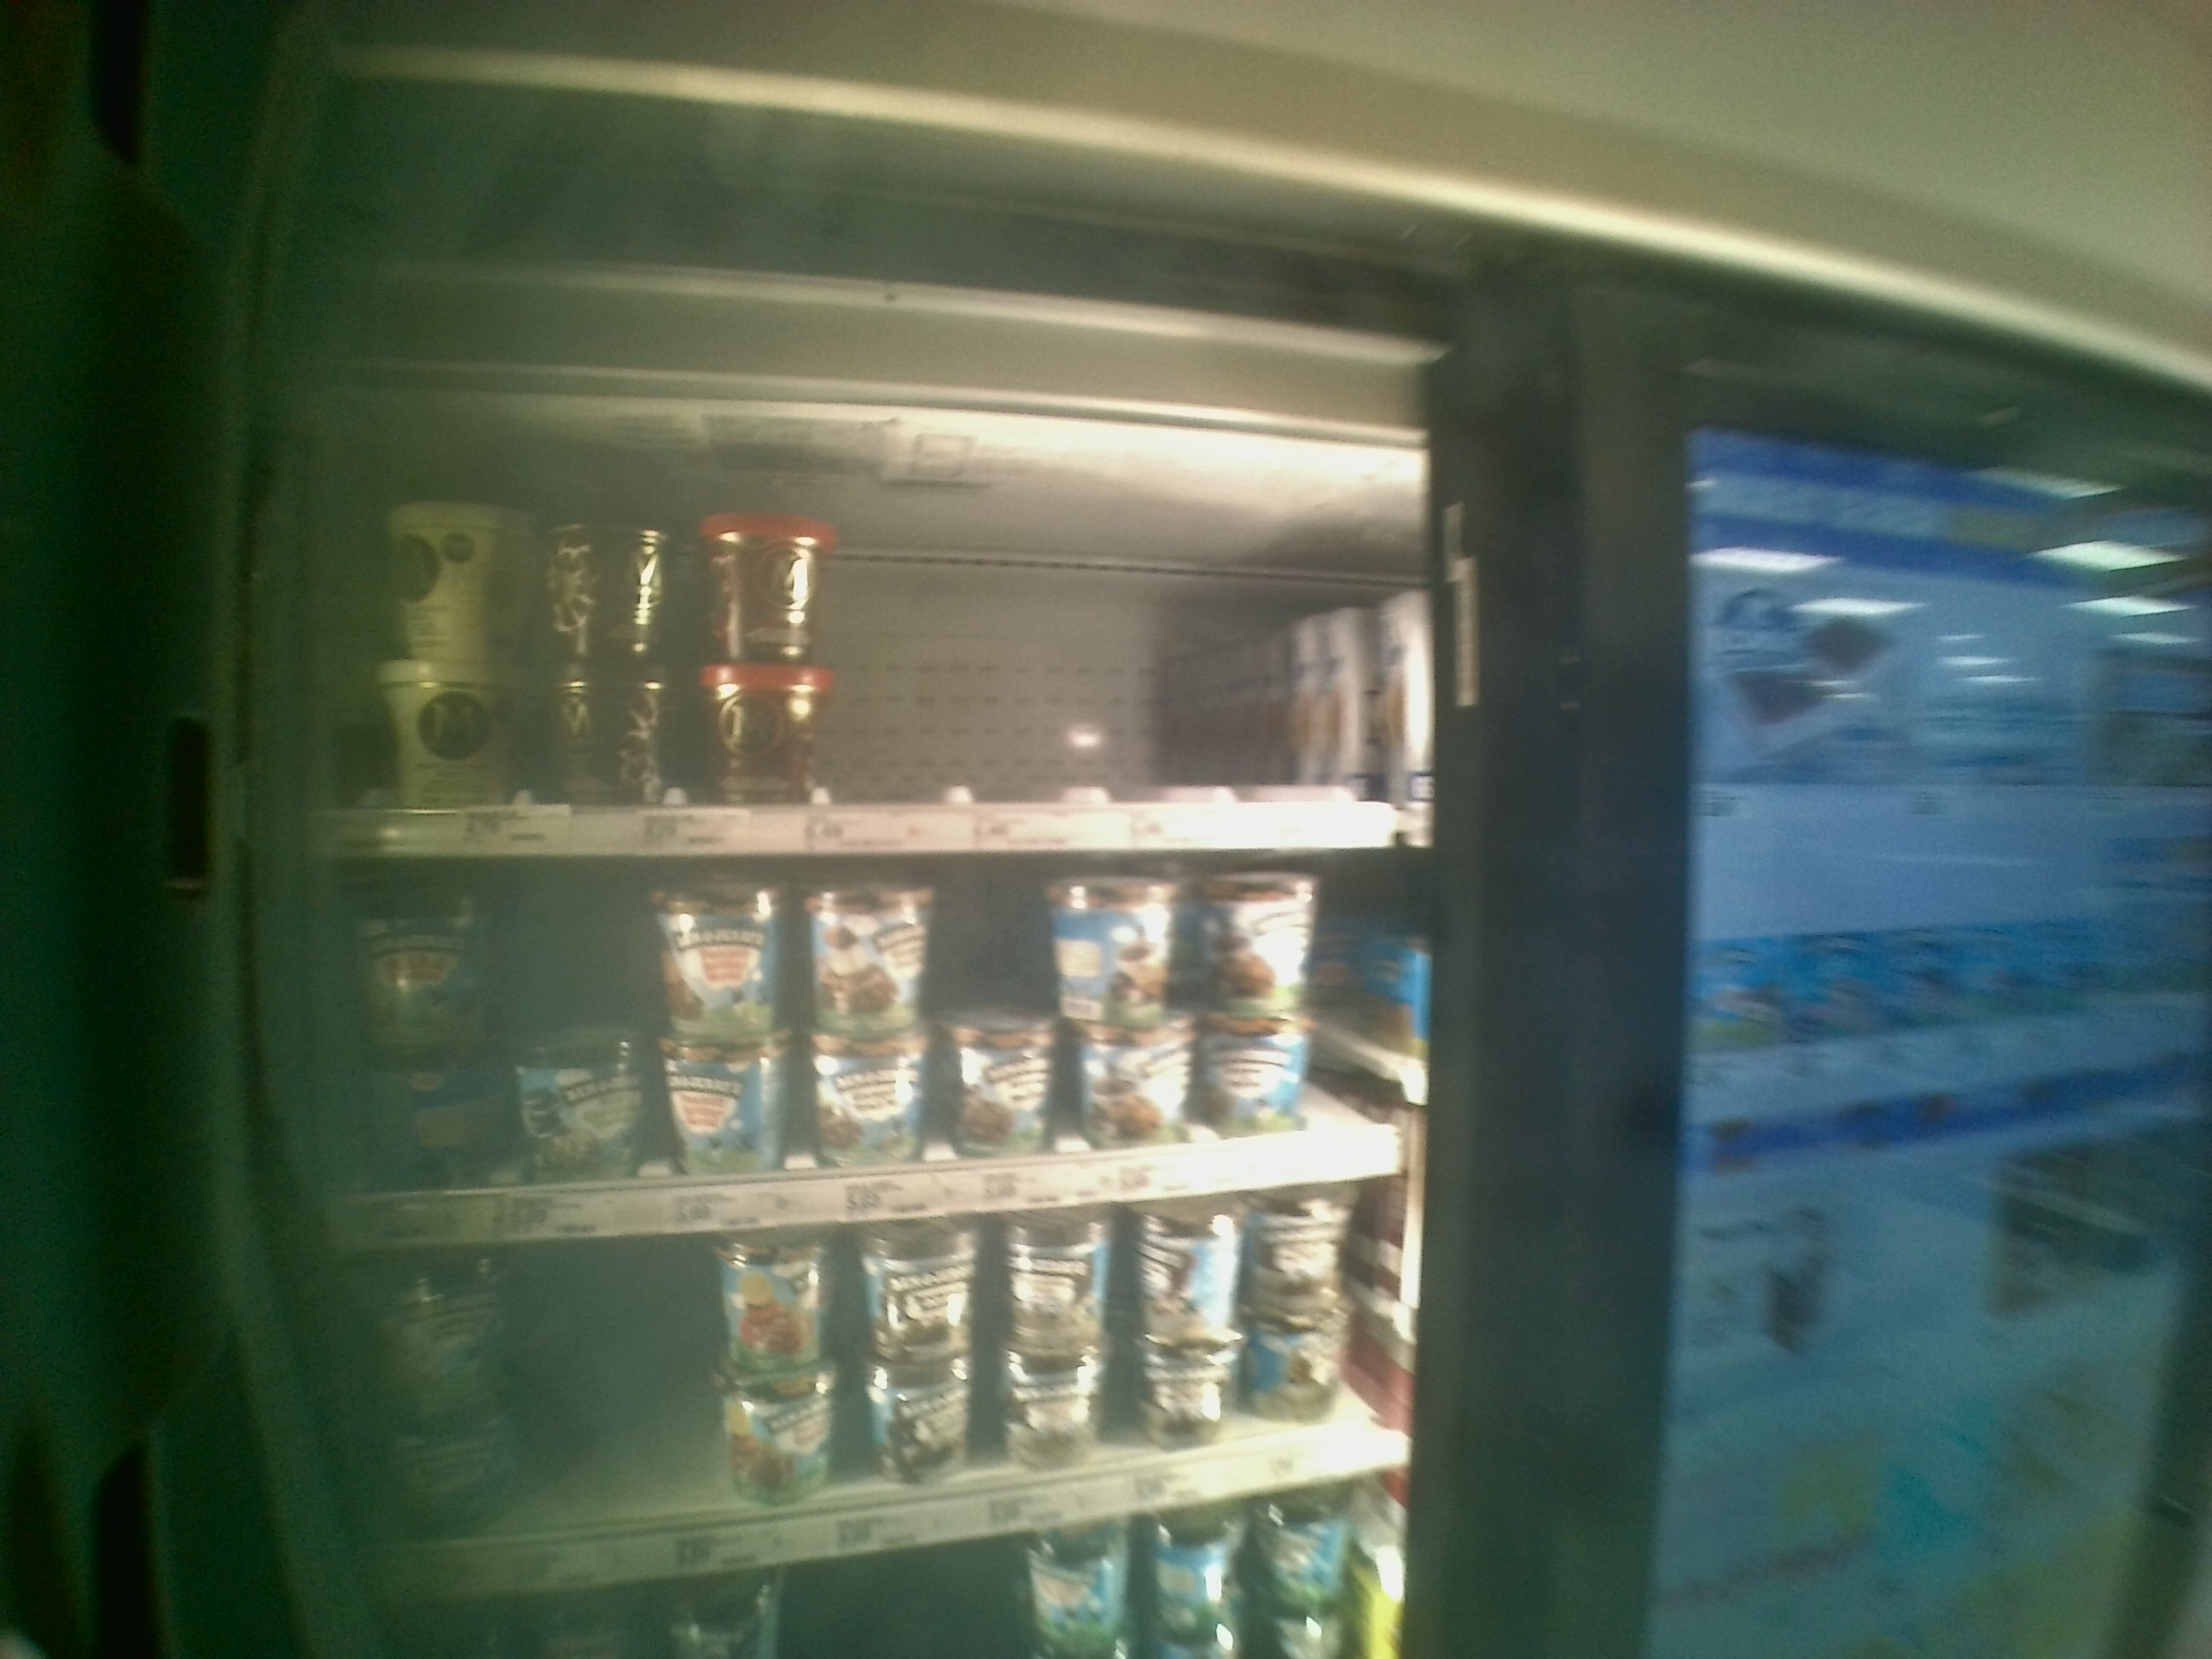shelf: (298, 404, 1430, 857), (291, 859, 1451, 1251)
